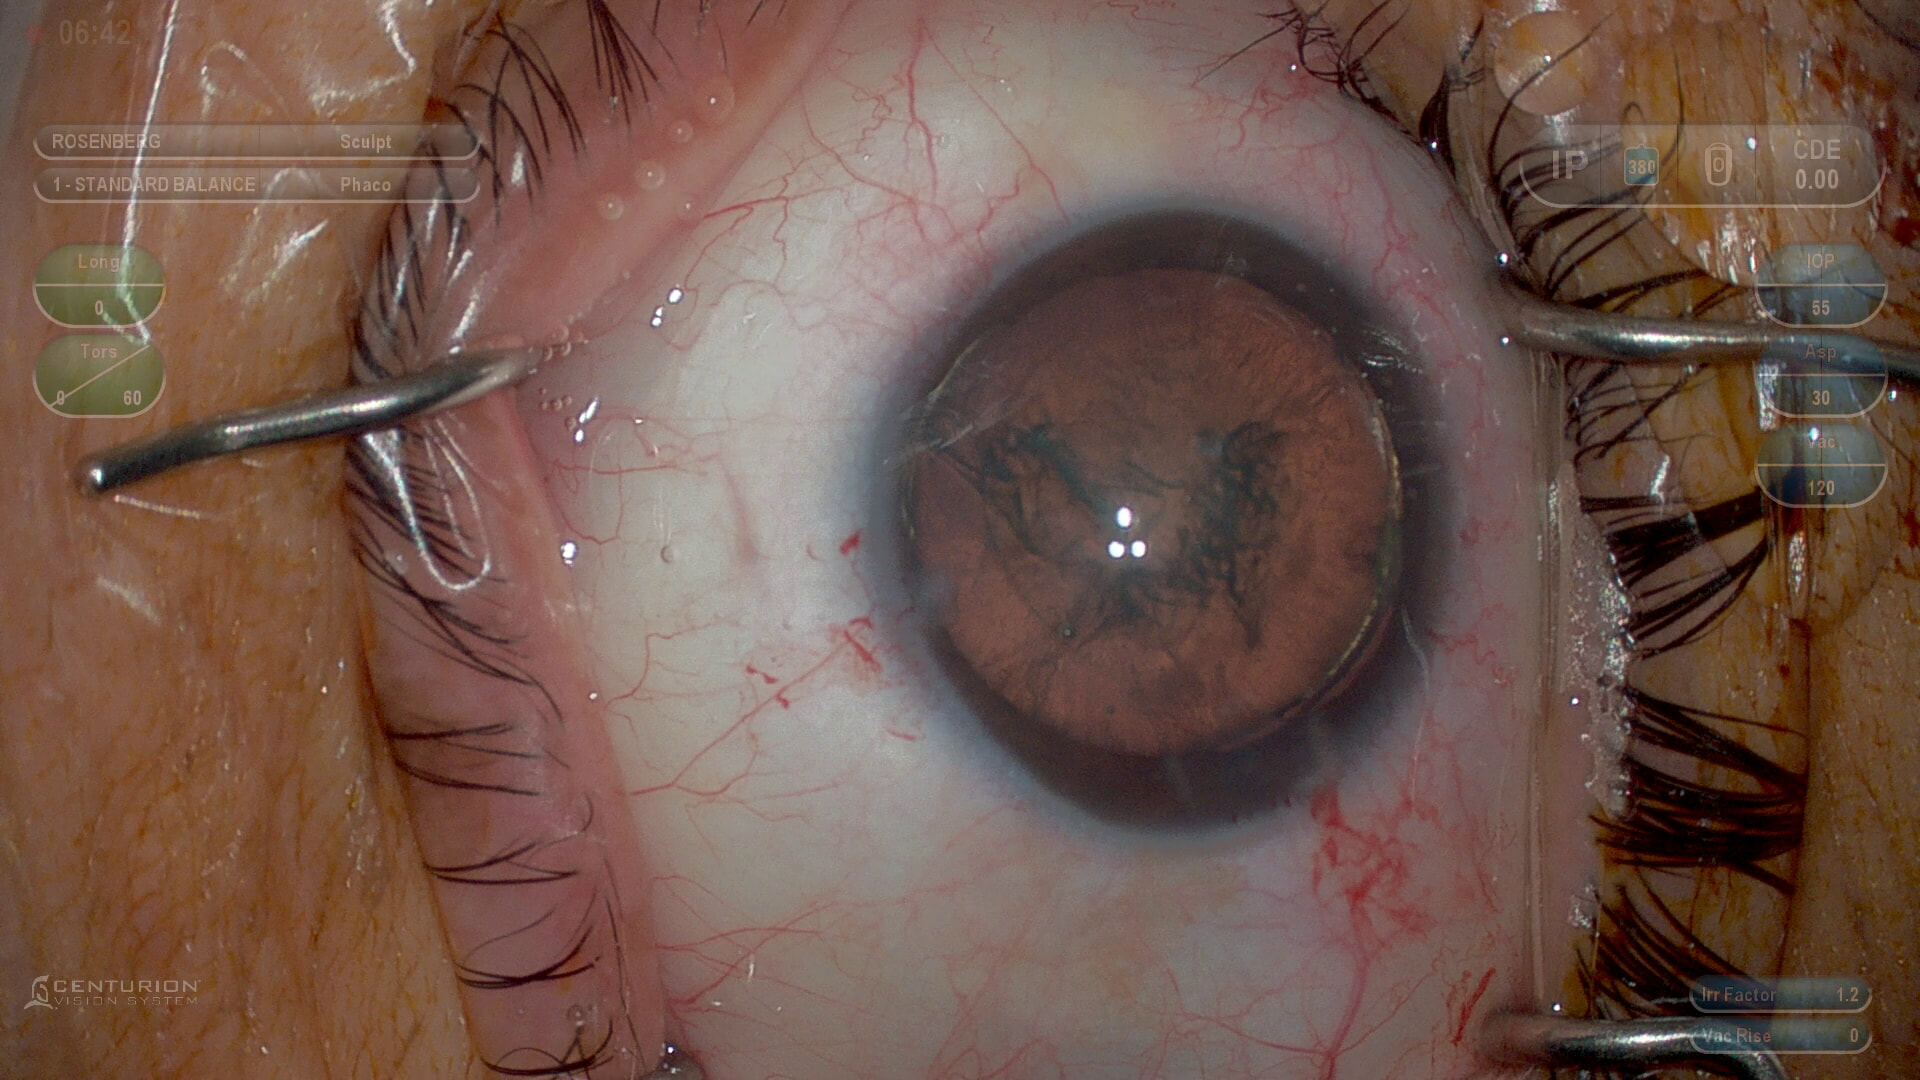iris: (866, 211, 1454, 826)
pupil: (903, 270, 1401, 760)
